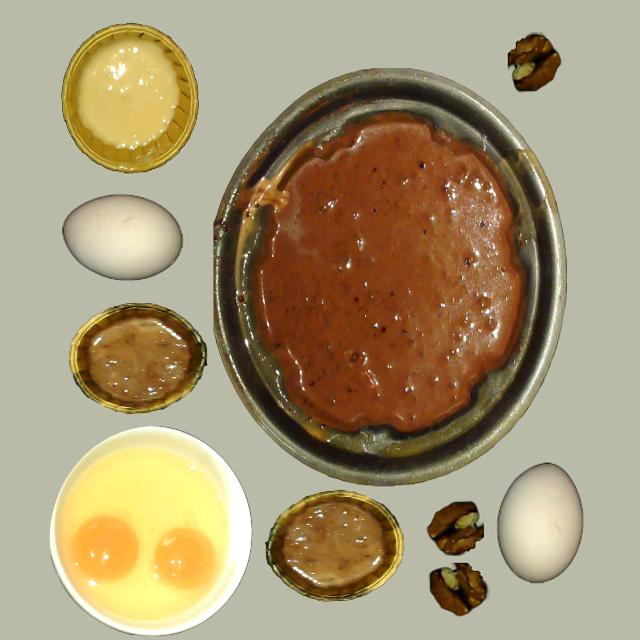Egg: (64, 450, 220, 619), (70, 515, 139, 583), (153, 527, 215, 590)
